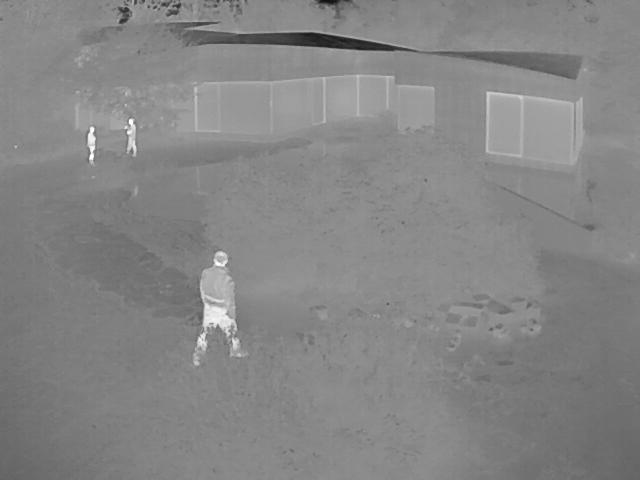person: (191, 251, 249, 369), (86, 126, 98, 165), (126, 118, 138, 154)
